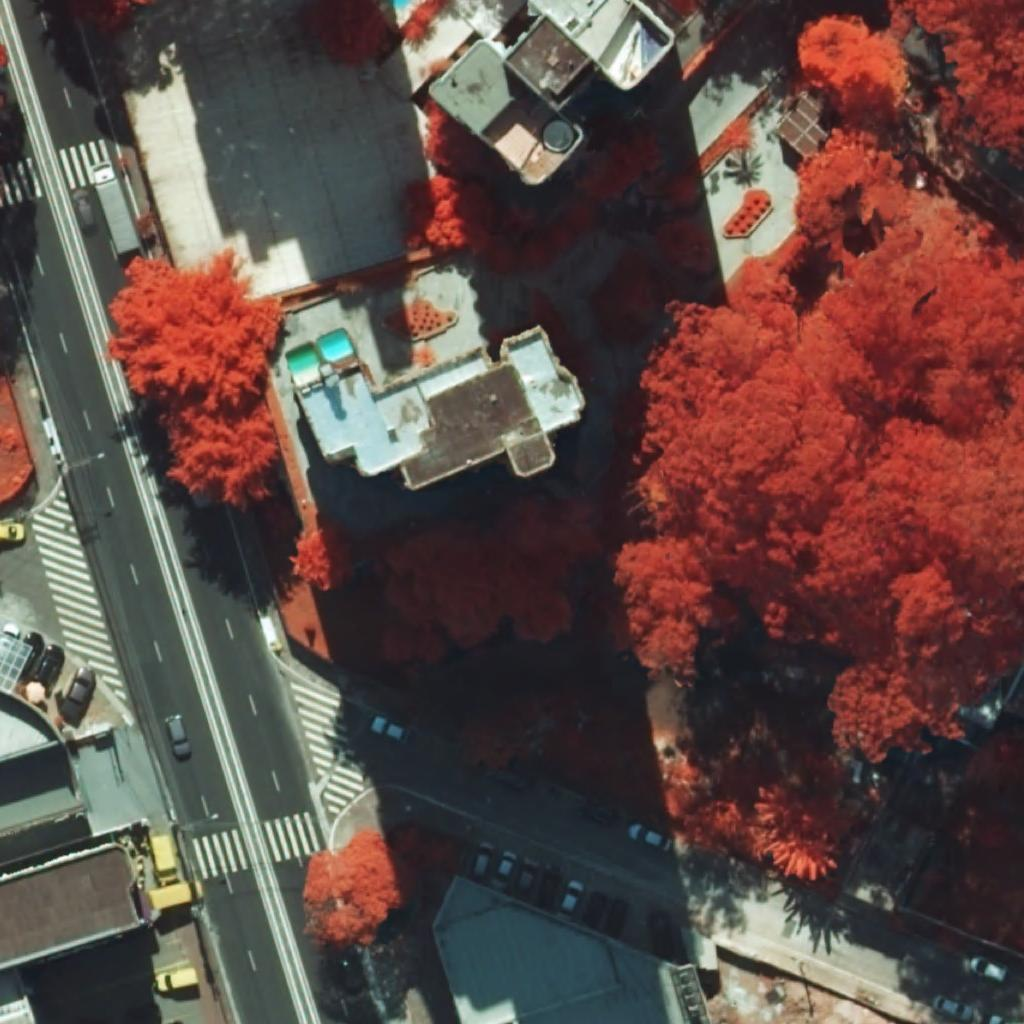pool: (286, 328, 353, 375)
